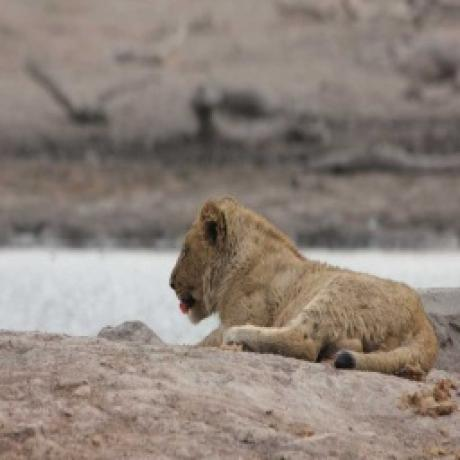Lion: (166, 196, 438, 381)
